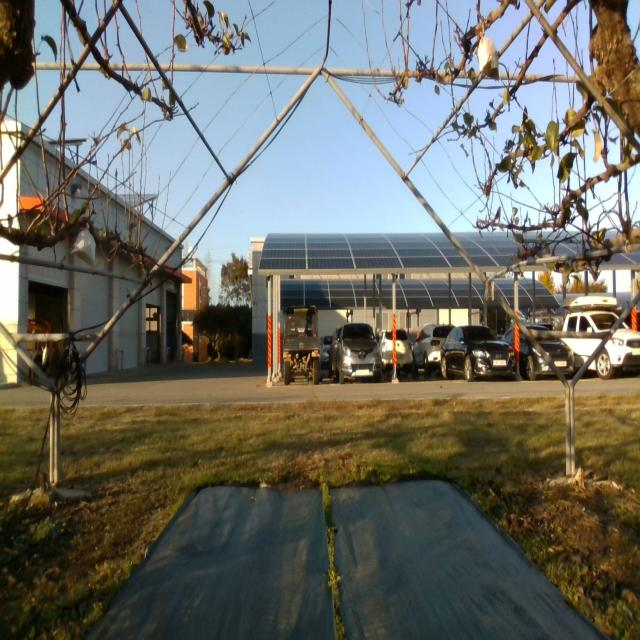pearbags: (71, 222, 96, 272), (477, 24, 499, 80)
